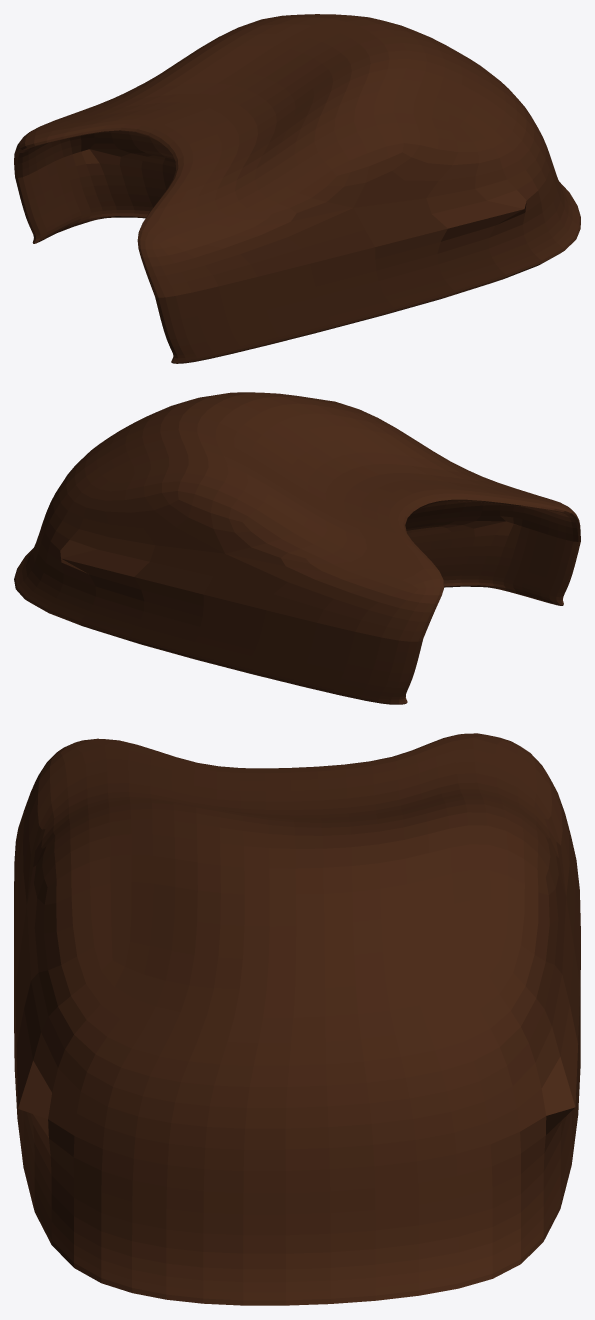
File: Höhle.fbx
3 renders of one model, top to bottom at view 1: azimuth 30°, elevation 25°; view 2: azimuth 150°, elevation 25°; view 3: azimuth 270°, elevation 25°, orthographic. The views are drawn at different scales.
Parts seen in each view (by area): view 1: Cube; view 2: Cube; view 3: Cube.
Part boxes in pixels (x1,y1,x2,y2): Cube: (14, 14, 580, 363); Cube: (14, 392, 580, 704); Cube: (14, 733, 580, 1305).
Bounding box in the file's own units: 4510 × 1769 × 2738.
